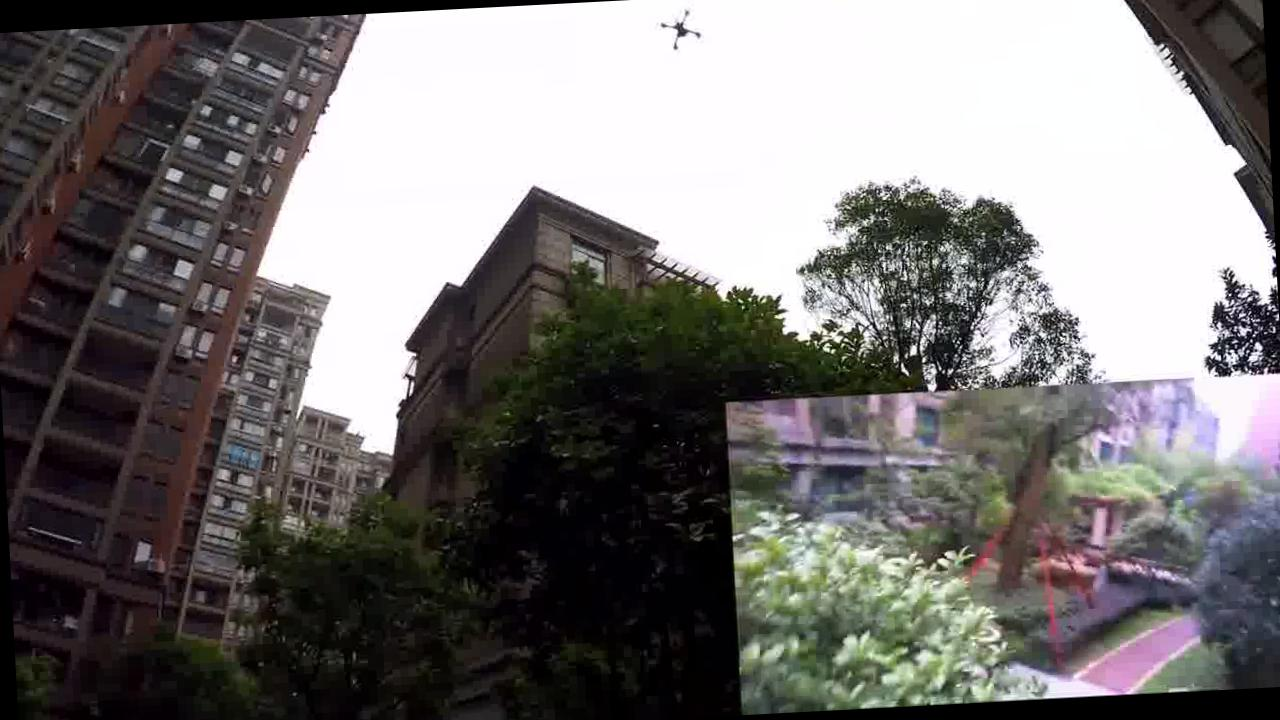drone: (648, 8, 701, 62)
